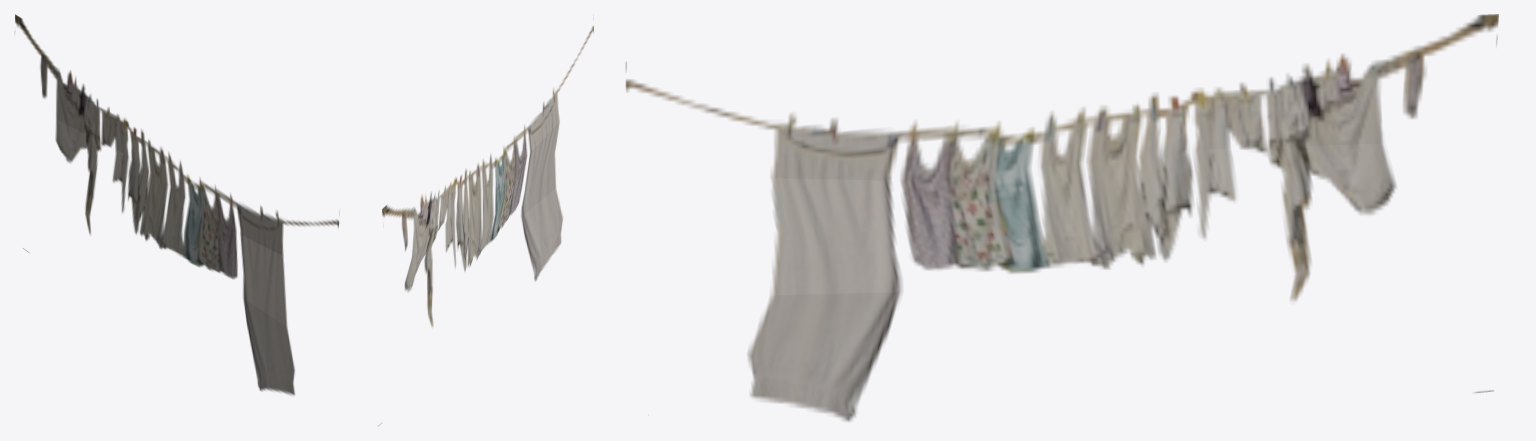
Rendered from clothesline.glb.
The picture shows the model from 3 angles, left to right: view 1: azimuth 30°, elevation 25°; view 2: azimuth 150°, elevation 25°; view 3: azimuth 270°, elevation 25°; orthographic projection. The views are drawn at different scales.
Parts seen in each view (by area): view 1: clo; view 2: clo; view 3: clo.
Boxes of the visible parts, <box> form: clo: <box>14,14,339,395</box>; clo: <box>378,25,593,425</box>; clo: <box>625,14,1498,421</box>.
Bounding box in the file's own units: 0.4707 × 2.12 × 4.34.
Materials: 1 (1 with a texture image).
